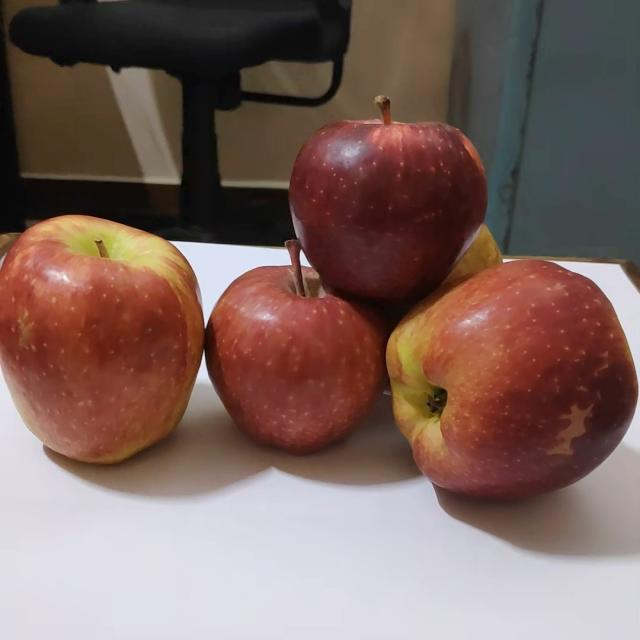apple: (381, 258, 640, 508), (1, 215, 206, 472), (282, 98, 493, 312), (204, 240, 389, 469), (413, 218, 505, 298)
